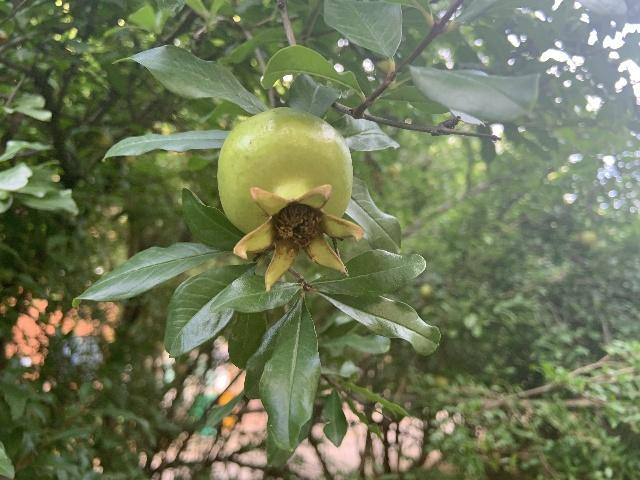mid-growth: (217, 107, 365, 292)
